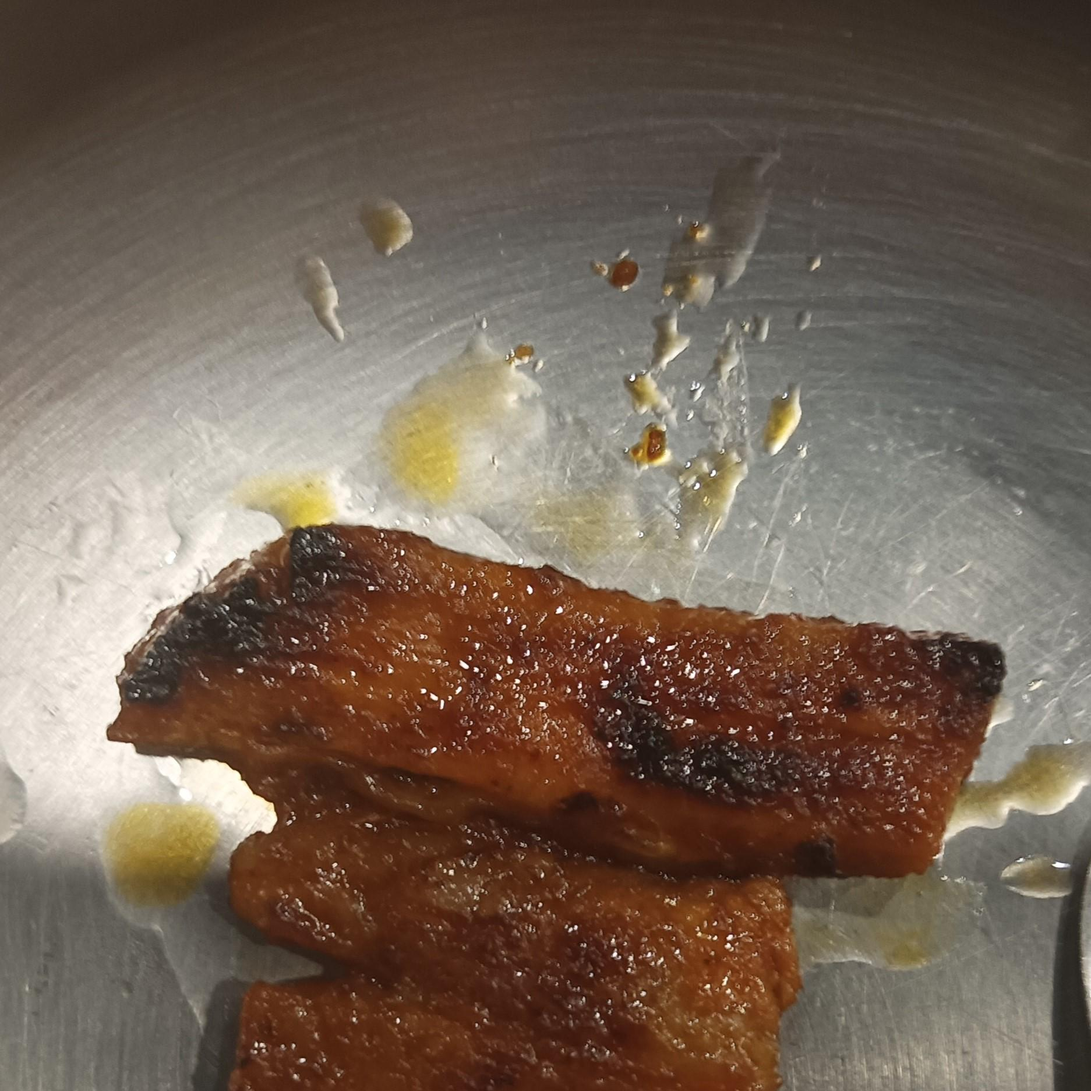Overcooked: (108, 524, 1005, 1090)
